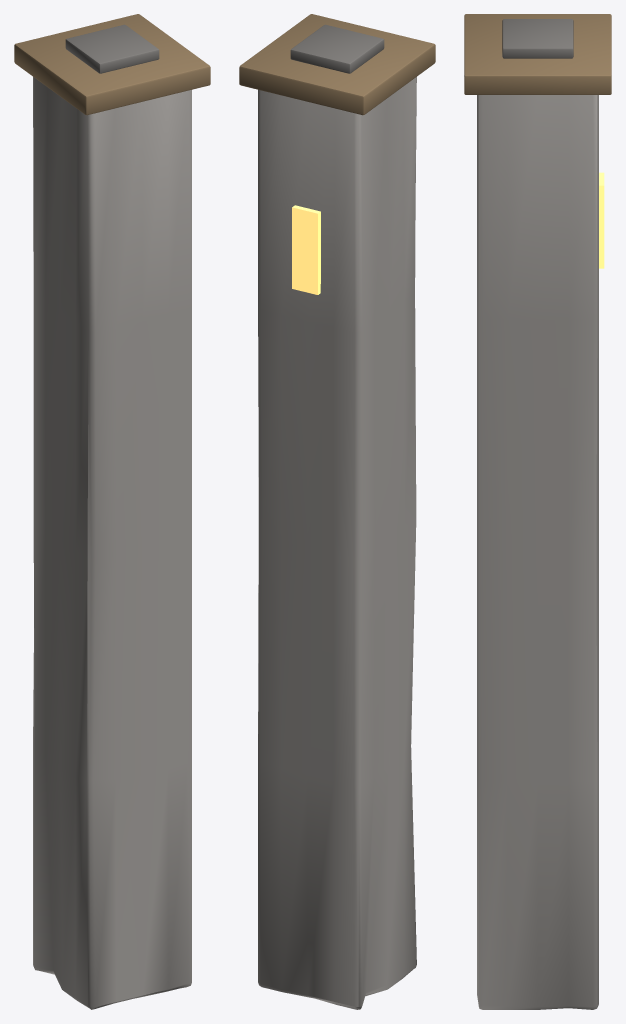
Rendered from SM_Area2_GatePillar.glb.
The picture shows the model from 3 angles, left to right: view 1: azimuth 30°, elevation 25°; view 2: azimuth 150°, elevation 25°; view 3: azimuth 270°, elevation 25°; orthographic projection.
Parts seen in each view (by area): view 1: SM_Area2_GatePillar; view 2: SM_Area2_GatePillar; view 3: SM_Area2_GatePillar.
Boxes of the visible parts, x1,y1,x2,y2 form: SM_Area2_GatePillar: (14,14,210,1009); SM_Area2_GatePillar: (239,14,435,1009); SM_Area2_GatePillar: (464,14,611,1009).
Size of the model in its own units: 1.45 by 10.33 by 1.45.
